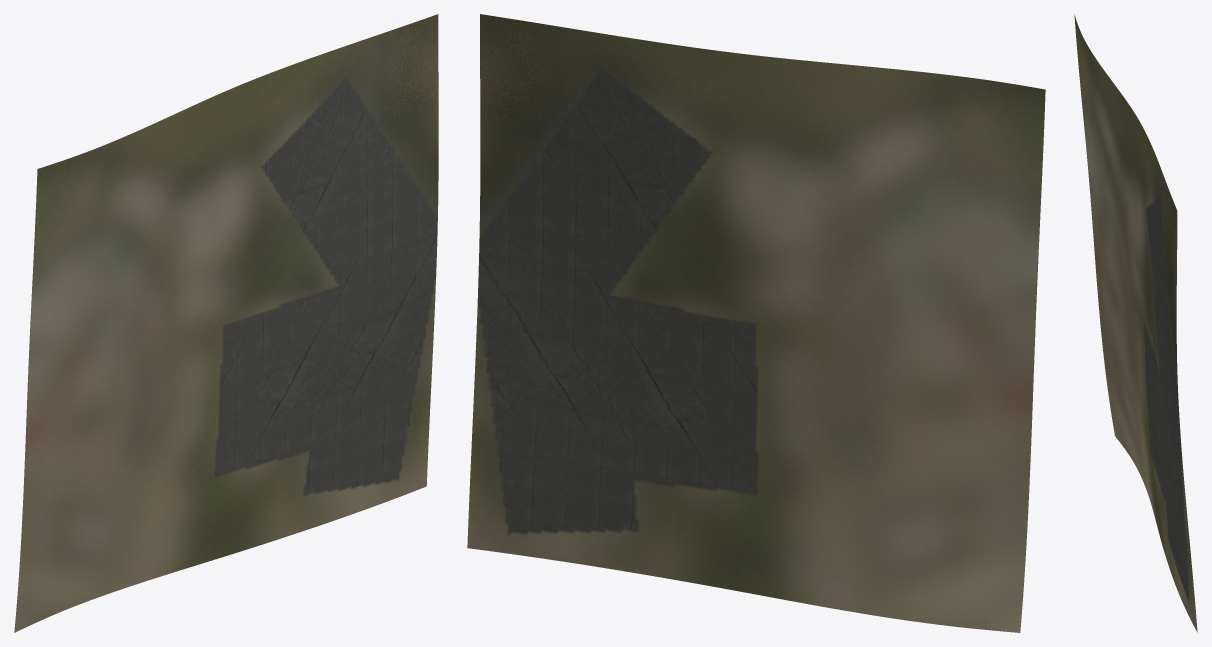
File: ground_core_00_02.obj
3 renders of one model, left to right at view 1: azimuth 30°, elevation 25°; view 2: azimuth 150°, elevation 25°; view 3: azimuth 270°, elevation 25°, orthographic. The views are drawn at different scales.
Parts seen in each view (by area): view 1: ground_core_00_02; view 2: ground_core_00_02; view 3: ground_core_00_02.
Boxes of the visible parts, x1=… form: ground_core_00_02: x1=14, y1=14, x2=438, y2=632; ground_core_00_02: x1=467, y1=14, x2=1045, y2=632; ground_core_00_02: x1=1074, y1=14, x2=1197, y2=632.
Bounding box in the file's own units: 50 × 50 × 13.22.
Materials: 1 (1 with a texture image).
